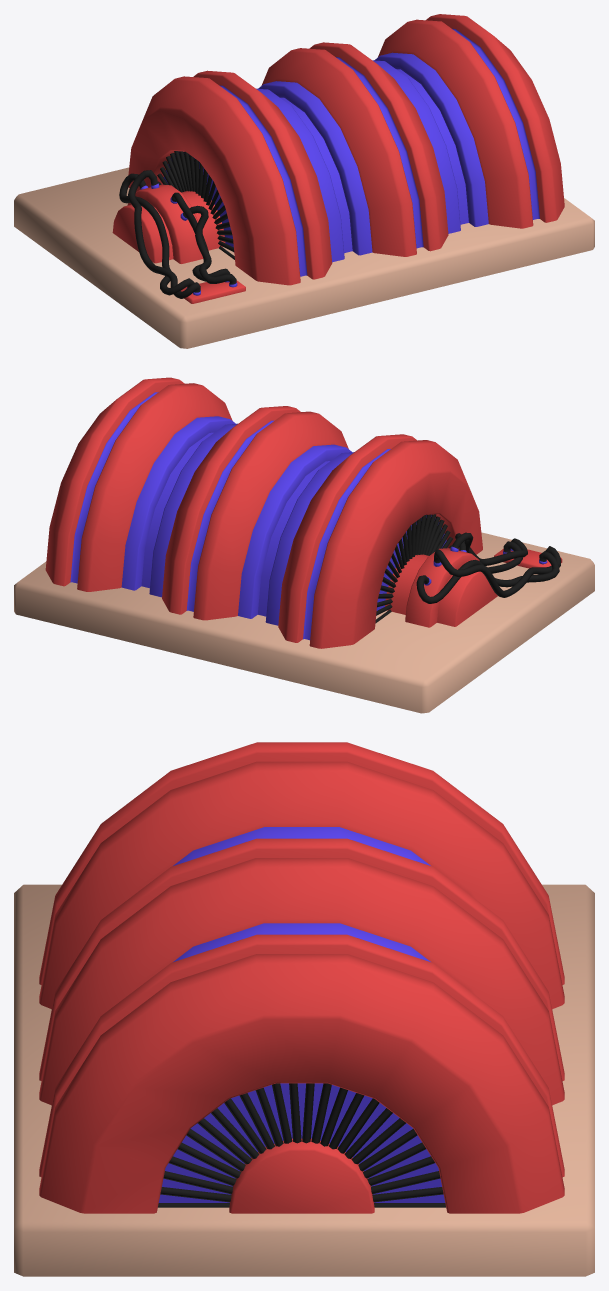
The model's file is Power.FBX.
The picture shows the model from 3 angles, top to bottom: view 1: azimuth 30°, elevation 25°; view 2: azimuth 150°, elevation 25°; view 3: azimuth 270°, elevation 25°; orthographic projection. The views are drawn at different scales.
Parts seen in each view (by area): view 1: Cylinder004, Box010; view 2: Cylinder004, Box010; view 3: Cylinder004, Box010.
Part boxes in pixels (x1=…): Cylinder004: x1=112, y1=14, x2=564, y2=303; Box010: x1=14, y1=167, x2=594, y2=348; Cylinder004: x1=45, y1=377, x2=562, y2=648; Box010: x1=14, y1=532, x2=594, y2=713; Cylinder004: x1=39, y1=742, x2=564, y2=1213; Box010: x1=14, y1=884, x2=594, y2=1276.
Size of the model in its own units: 330 by 129 by 236.
